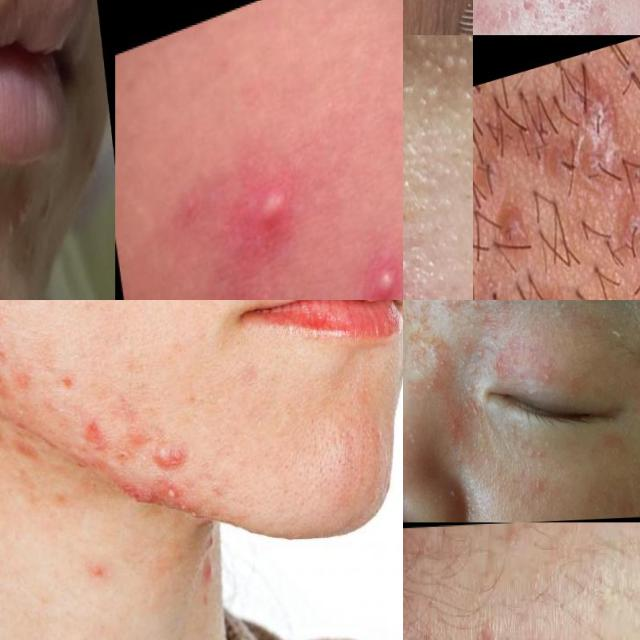acne_scars: (508, 0, 544, 27), (581, 21, 616, 35)
comedone: (591, 0, 629, 11)
pustule: (249, 168, 296, 248), (351, 230, 403, 300)
sebo-crystan-conglo: (0, 180, 41, 260)
